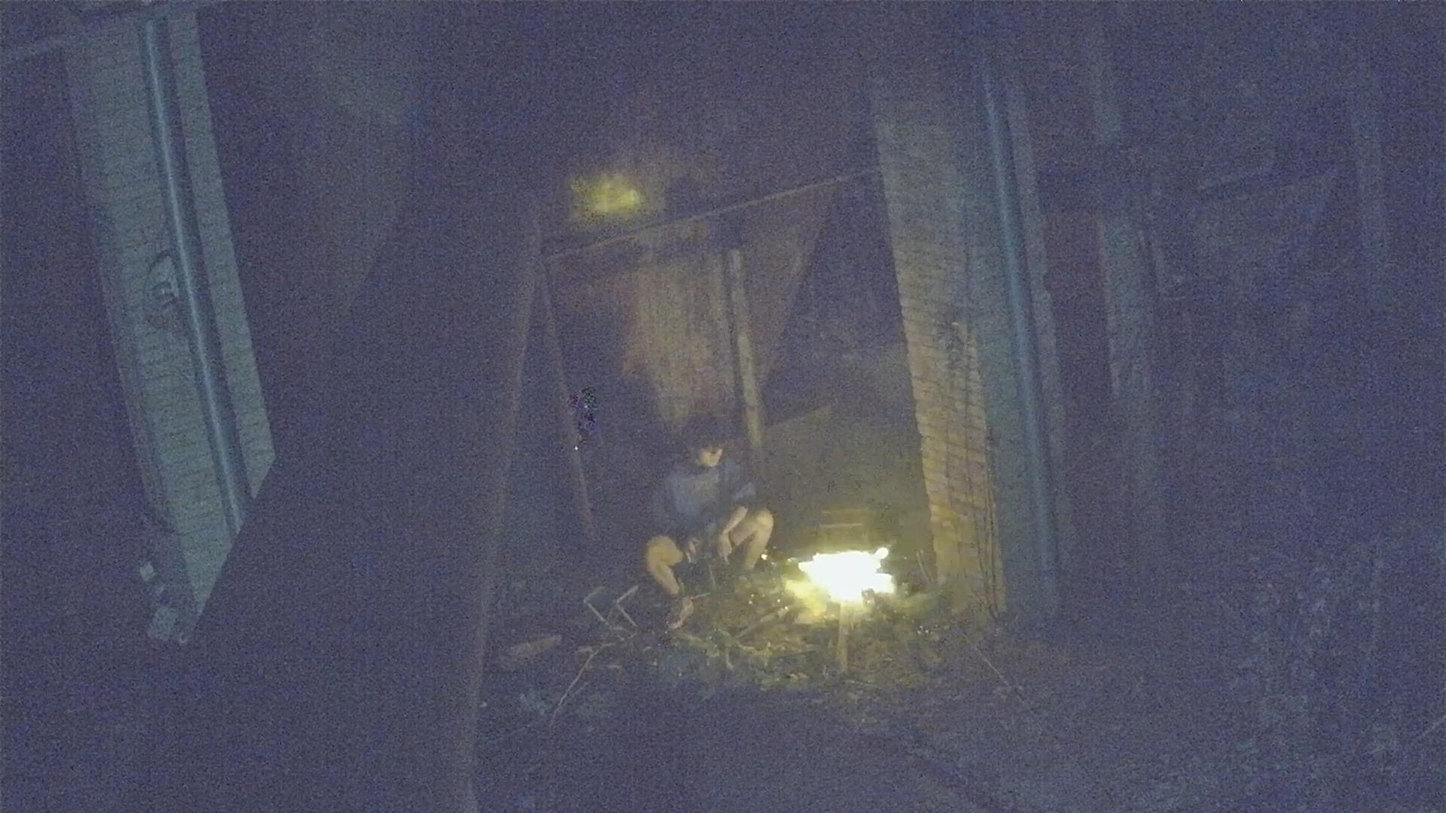fire: (799, 548, 894, 614)
